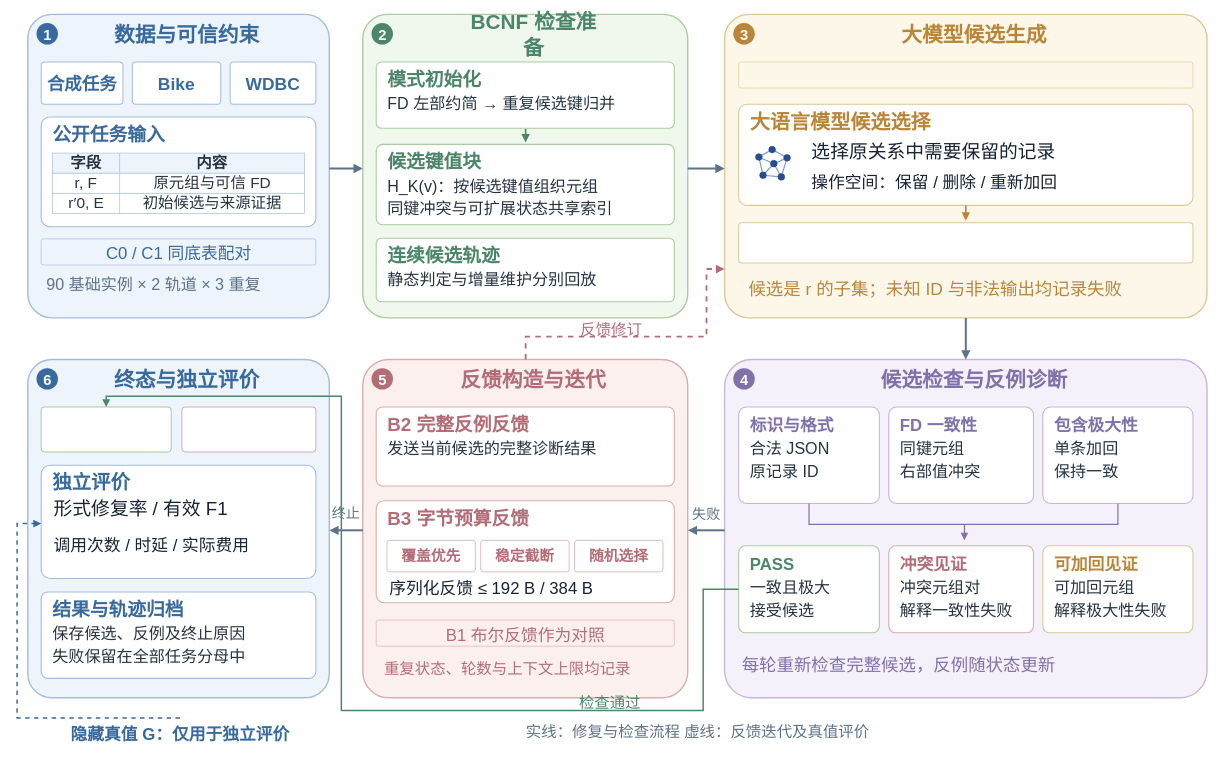
The diagram is 1219 pixels wide and 757 high, and some of its shapes have lost their labels. Each missing label, with the box of its shape:
{"keep_ids": ["t2", "t4"]}: (738, 222, 1193, 263)
停止: (181, 406, 316, 452)
输入：r + F + r′0 + E + 已公开反馈: (738, 61, 1193, 88)
通过: (40, 406, 171, 452)
